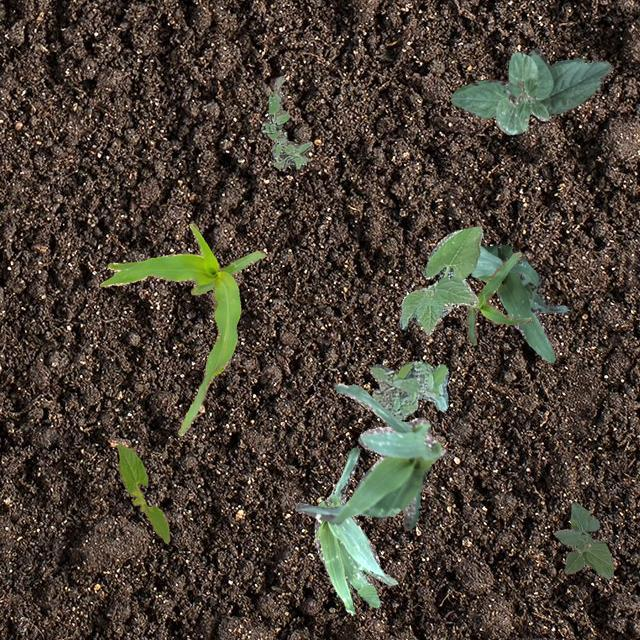crop: (98, 222, 264, 434), (294, 382, 444, 530), (314, 447, 396, 612), (470, 244, 568, 362), (449, 49, 612, 118), (398, 225, 482, 334), (459, 250, 532, 344), (116, 442, 168, 542), (494, 52, 548, 134), (554, 502, 612, 578)
weed: (260, 74, 312, 168), (368, 360, 448, 420)
